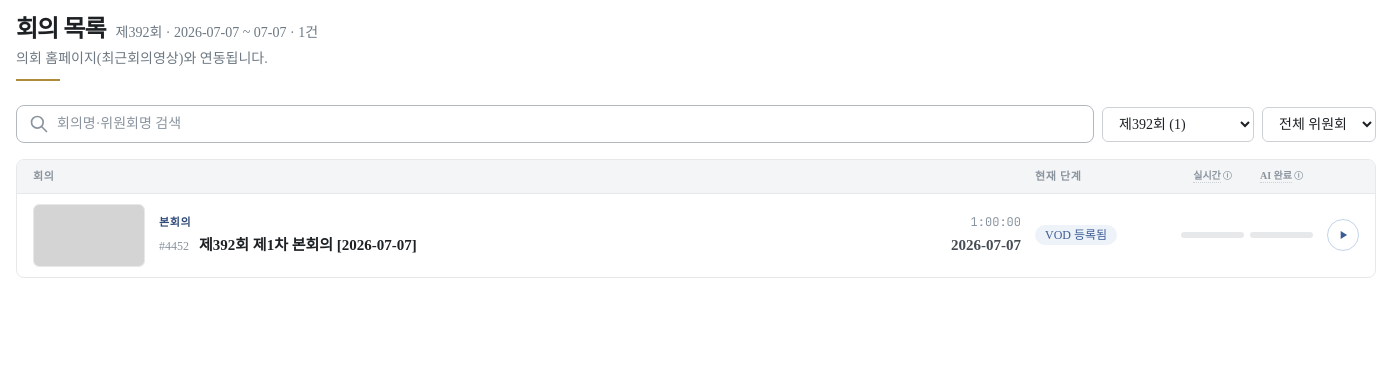
Scenario: VodListPage › Session Tabs (회기 탭 — 391회 이후 관리) › switches sessions when another session is selected
The width and height of the screenshot is (1393, 379).
Select "제391회 (2)" in the dropdown with test id "session-select" at {"x": 1178, "y": 124}, box x1=1102 y1=106 x2=1254 y2=142
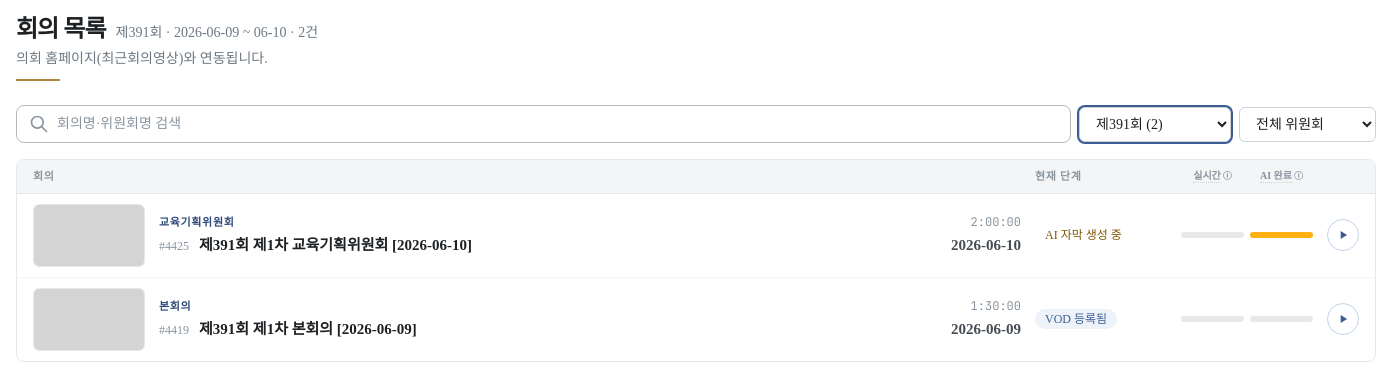
Now the button "제392회 제1차 본회의 [2026-07-07]" is gone
